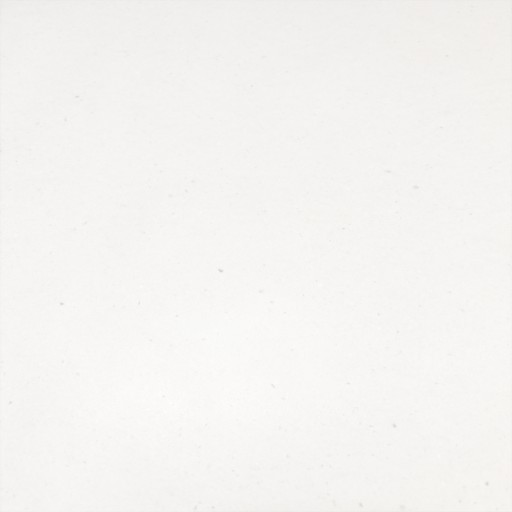lego: (209, 220, 304, 291)
